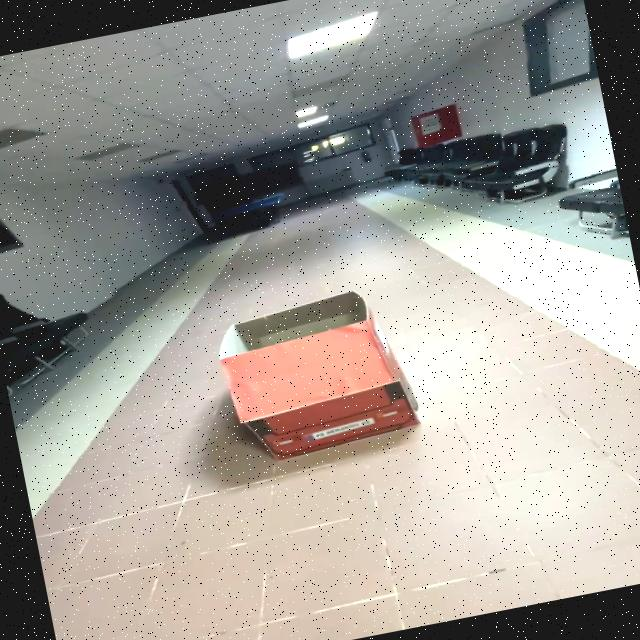red_car: (188, 267, 489, 481)
